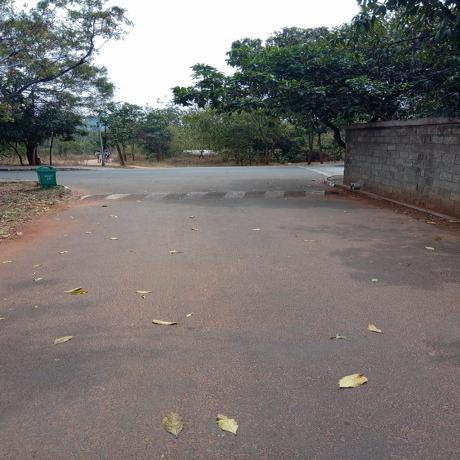Speed Bump: (59, 186, 343, 198)
